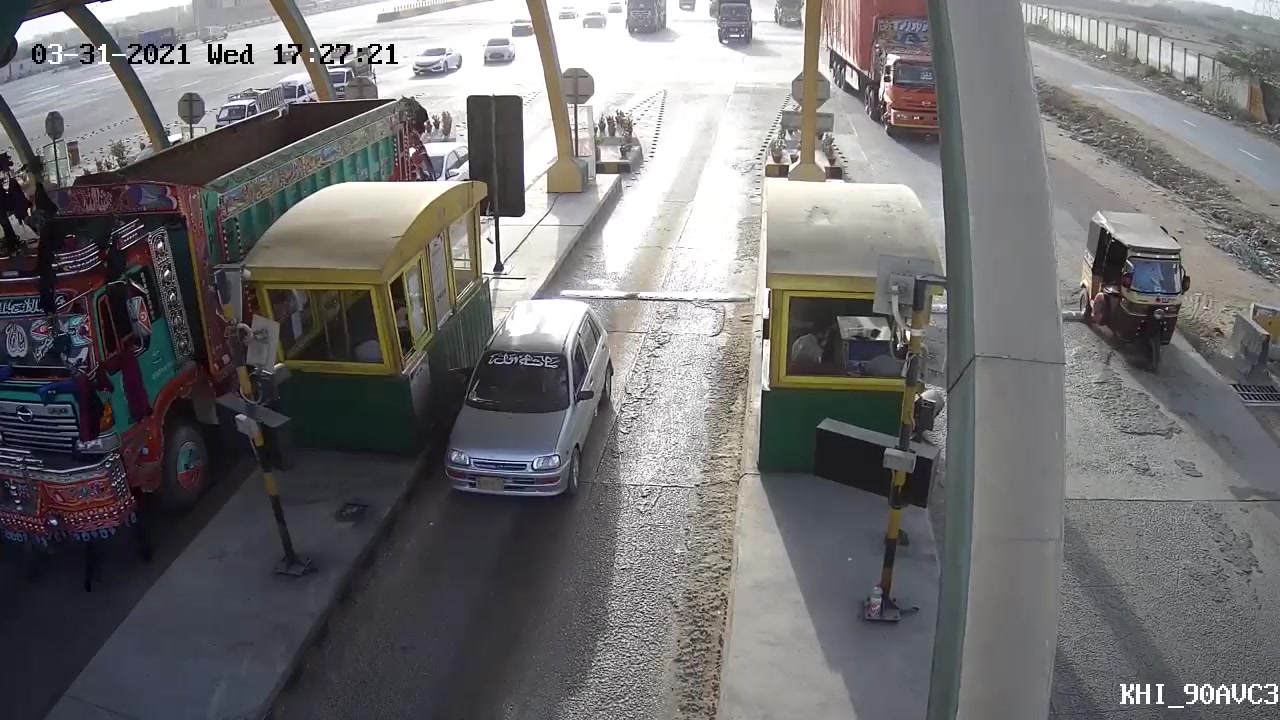F1: (447, 292, 625, 495)
